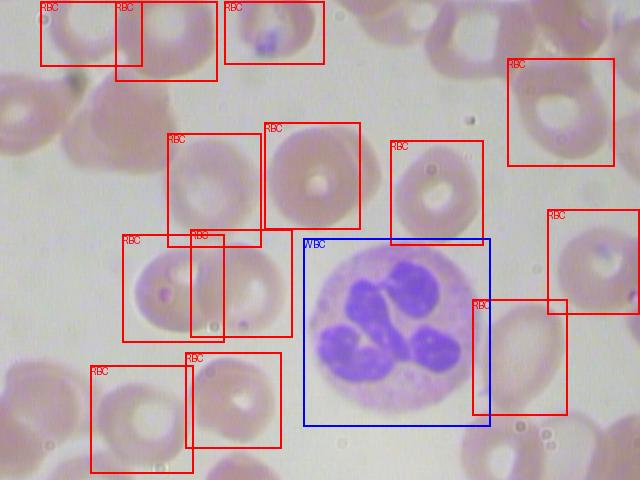RBC: (507, 58, 614, 166), (90, 365, 193, 473), (472, 299, 567, 415), (190, 229, 292, 337), (122, 234, 224, 342), (167, 133, 261, 247), (264, 122, 360, 229), (390, 140, 483, 245), (547, 209, 639, 314), (185, 352, 281, 448), (115, 1, 217, 81), (40, 1, 142, 66), (224, 1, 324, 64)
WBC: (303, 238, 490, 426)
